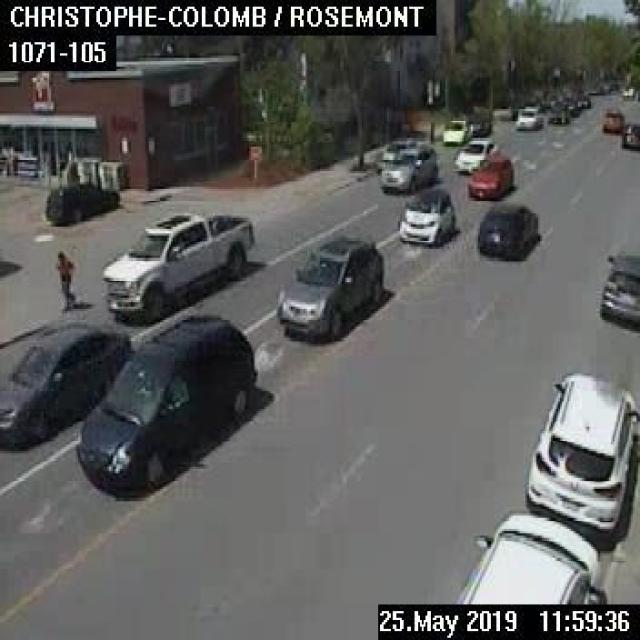pedestrian: (54, 247, 72, 309)
vehicle: (75, 315, 255, 493), (526, 371, 638, 533), (0, 321, 129, 450), (100, 211, 252, 317), (453, 509, 606, 602), (274, 235, 382, 338), (476, 202, 537, 255), (44, 181, 117, 224), (596, 252, 638, 324), (398, 188, 452, 242), (379, 145, 437, 191), (466, 154, 511, 198), (379, 137, 426, 169), (454, 137, 496, 172), (441, 117, 470, 143), (514, 106, 543, 128), (601, 107, 623, 132), (621, 121, 638, 148), (548, 103, 568, 123), (469, 116, 491, 134), (576, 95, 590, 106), (619, 86, 633, 94)
